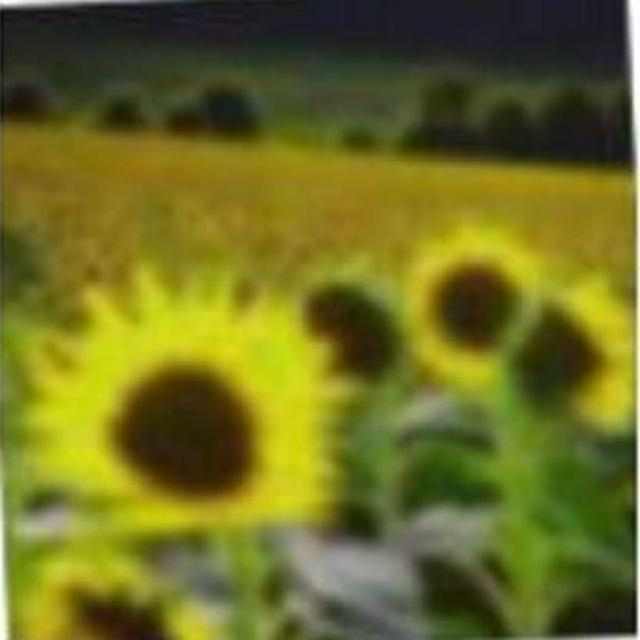sunflower: (31, 278, 340, 532), (396, 220, 549, 388)
